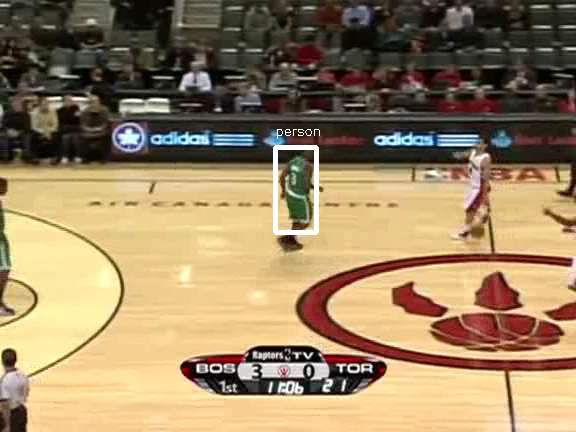person: (281, 151, 315, 232), (280, 151, 314, 232), (282, 151, 316, 232), (281, 150, 315, 231), (281, 152, 315, 233)
target_negative: (10, 9, 286, 255), (289, 75, 409, 317), (159, 153, 259, 273), (16, 358, 229, 386), (199, 381, 236, 415), (383, 329, 408, 335)
